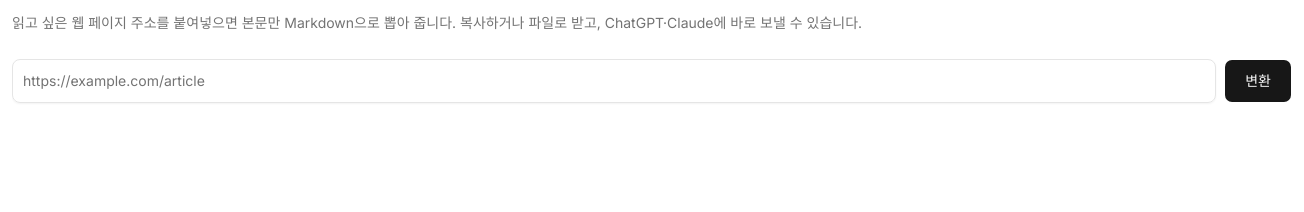
Test: 오류 뒤 지우기는 오류 메시지도 지운다
The image size is (1304, 212).
Type "https://example.com/a" into the field named "웹 페이지 URL".
click(614, 81); type("https://example.com/a")  # box [12,59,1216,103]
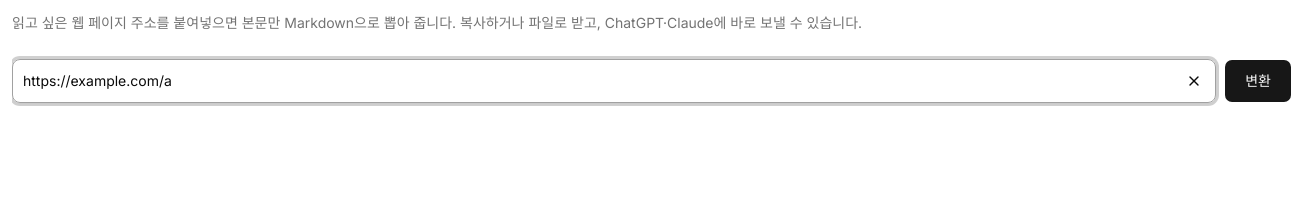
Click the button "변환".
click(1258, 81)  # box [1224,59,1292,103]
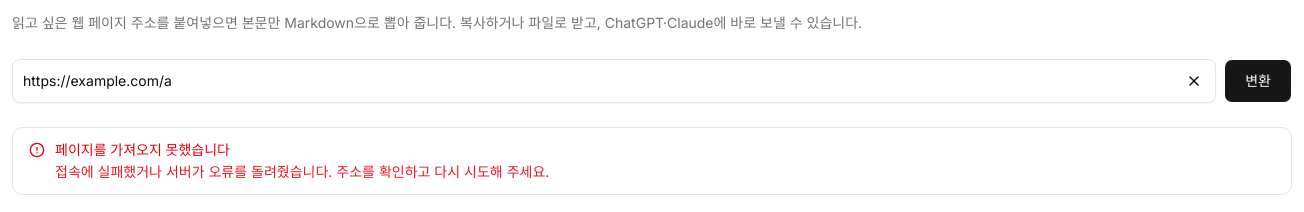
Result: the message "페이지를 가져오지 못했습니다 접속에 실패했거나 서버가 오류를 돌려줬습니다. 주소를 확인하고 다시 시도해 주세요." is shown at [12,127,1292,195]
Click the button named "지우기".
click(1194, 81)  # box [1178,65,1210,97]
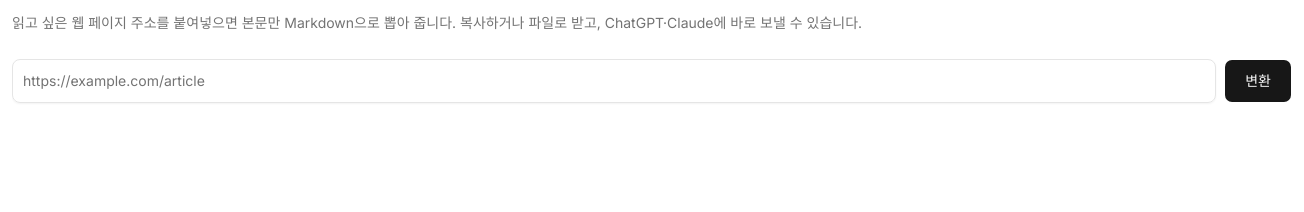
Result: the message "페이지를 가져오지 못했습니다 접속에 실패했거나 서버가 오류를 돌려줬습니다. 주소를 확인하고 다시 시도해 주세요." is gone
